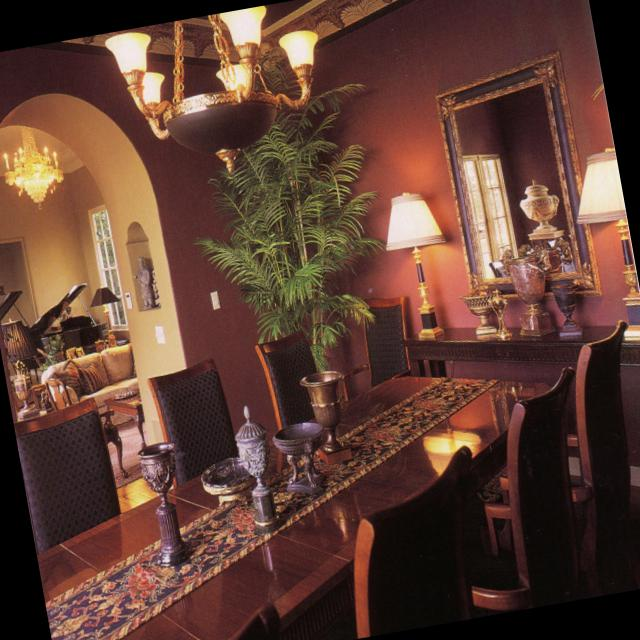2001: (88, 203, 128, 328)
bottom of chair: (99, 408, 129, 479)
bowl of garlic: (459, 283, 496, 334)
chair -occluded-: (473, 365, 577, 609), (353, 444, 472, 636), (567, 317, 640, 598), (13, 396, 121, 552), (148, 355, 237, 487), (342, 294, 411, 395), (256, 328, 319, 428)
chandelier: (105, 7, 317, 172), (2, 126, 65, 211)
checkers pieces: (112, 388, 138, 401)
coffee table: (101, 387, 147, 449)
cup and saucer: (488, 286, 514, 339)
decorative box -X: (94, 336, 105, 353)
frame: (65, 346, 77, 358), (74, 345, 85, 356)
goblet: (137, 440, 193, 566), (235, 402, 279, 534)
lamp crop: (576, 147, 640, 342), (385, 189, 447, 337), (1, 315, 39, 419), (89, 283, 120, 347)
light switch: (209, 288, 221, 311), (154, 323, 166, 344), (124, 289, 132, 310)
marble bowl: (201, 456, 254, 505)
mirror crop: (435, 48, 602, 299)
piano pedels: (23, 280, 106, 382)
pillow occluded: (77, 359, 104, 395)
plant pot occluded: (40, 332, 65, 369)
sculpture -X: (136, 254, 155, 310), (151, 267, 161, 307)
sofa bed: (40, 342, 138, 424)
stone bowl: (272, 421, 326, 497)
table -X: (40, 375, 550, 640), (406, 321, 640, 379)
table setting for dinner: (45, 376, 497, 640)
throw pillow: (52, 358, 83, 400)
top wall: (44, 377, 71, 409)
treee: (191, 43, 386, 370)
urn: (501, 244, 556, 336), (551, 278, 582, 336)
urn_: (299, 369, 352, 464)
